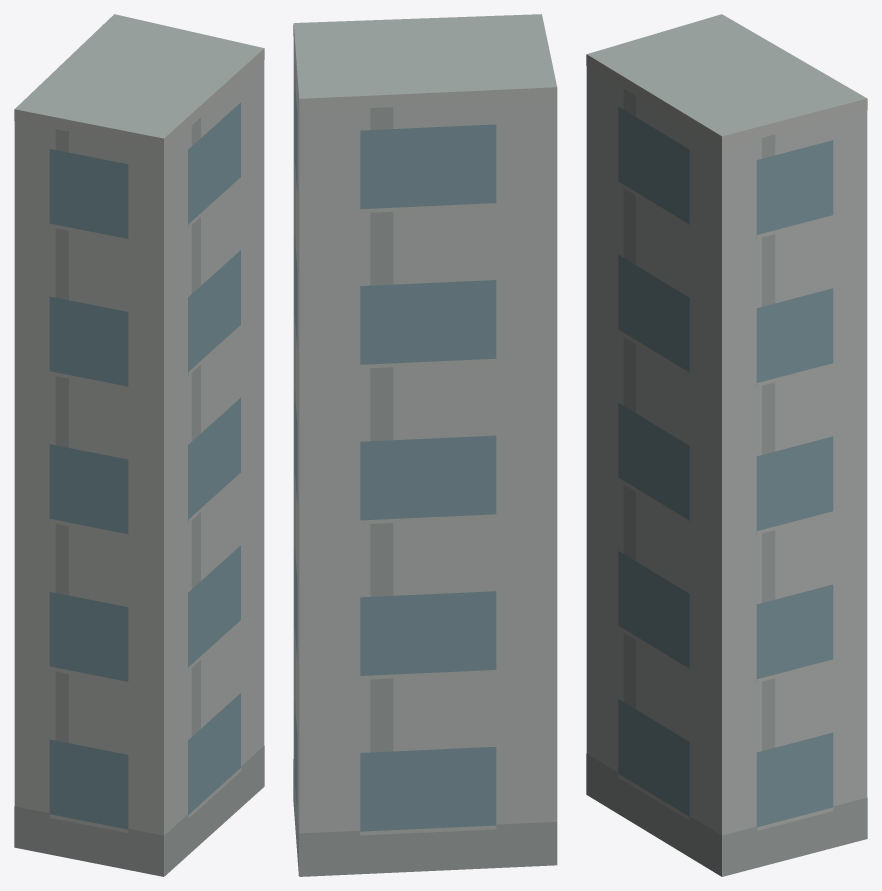
File: survey-upis-32911712.glb
3 views of the same model, side by side, from view 1: azimuth 30°, elevation 25°; view 2: azimuth 150°, elevation 25°; view 3: azimuth 270°, elevation 25° (orthographic). The views are drawn at different scales.
Visible parts, largest first — view 1: survey-upis-32911712.tmp; view 2: survey-upis-32911712.tmp; view 3: survey-upis-32911712.tmp.
Boxes of the visible parts, x1,y1,x2,y2 form: survey-upis-32911712.tmp: (14, 14, 264, 876); survey-upis-32911712.tmp: (293, 14, 557, 876); survey-upis-32911712.tmp: (586, 14, 867, 876).
Bounding box in the file's own units: 5.41 × 15.25 × 5.25.
